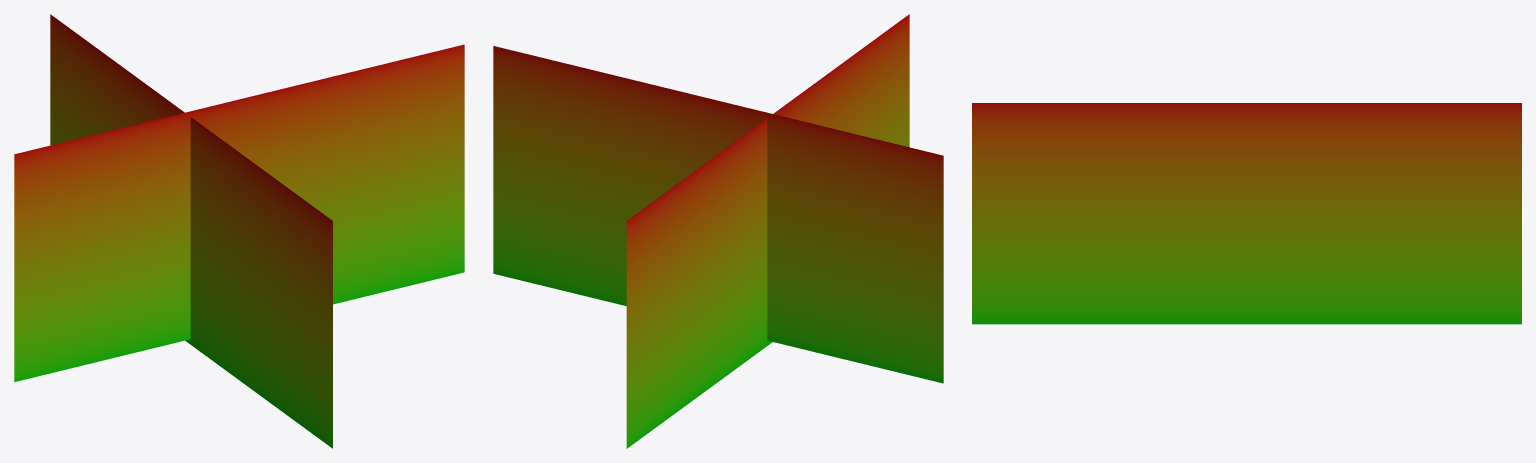
The model's file is Boston Fern_LOD4_Var3_rhDrC.fbx.
3 renders of one model, left to right at view 1: azimuth 30°, elevation 25°; view 2: azimuth 150°, elevation 25°; view 3: azimuth 270°, elevation 25°, orthographic. The views are drawn at different scales.
Parts seen in each view (by area): view 1: _e3de_Var3_LOD4; view 2: _e3de_Var3_LOD4; view 3: _e3de_Var3_LOD4.
Boxes of the visible parts, box(x1,y1,x2,y2) form: _e3de_Var3_LOD4: box(14, 14, 464, 448); _e3de_Var3_LOD4: box(493, 14, 943, 448); _e3de_Var3_LOD4: box(972, 103, 1521, 324).
Size of the model in its own units: 16 by 7.93 by 17.41.
